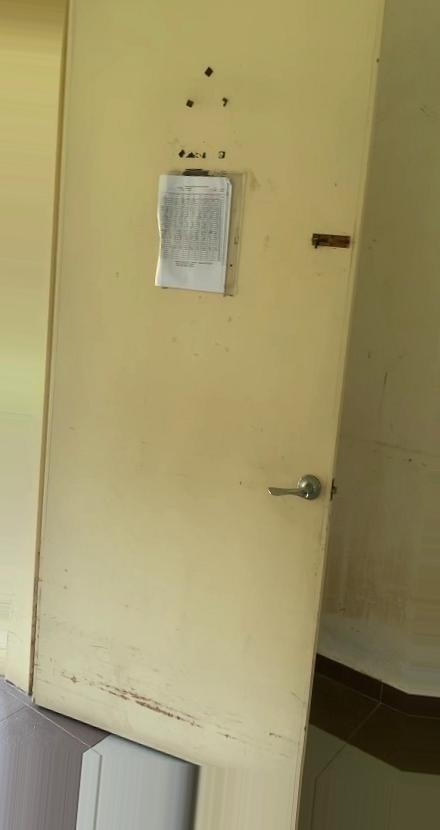door: (29, 0, 385, 764)
